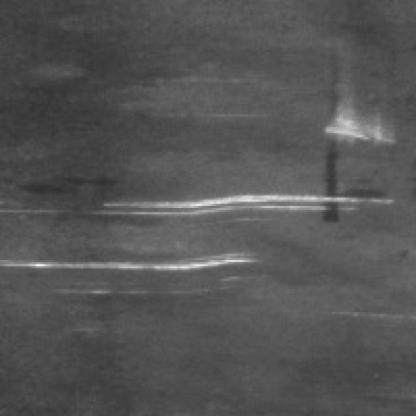inclusion: (320, 50, 341, 227)
scratches: (0, 241, 256, 279), (89, 186, 391, 218), (310, 98, 393, 146)
